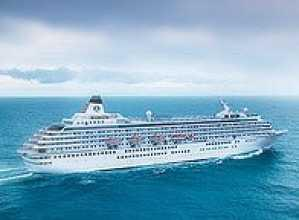youlun: (20, 93, 284, 175)
